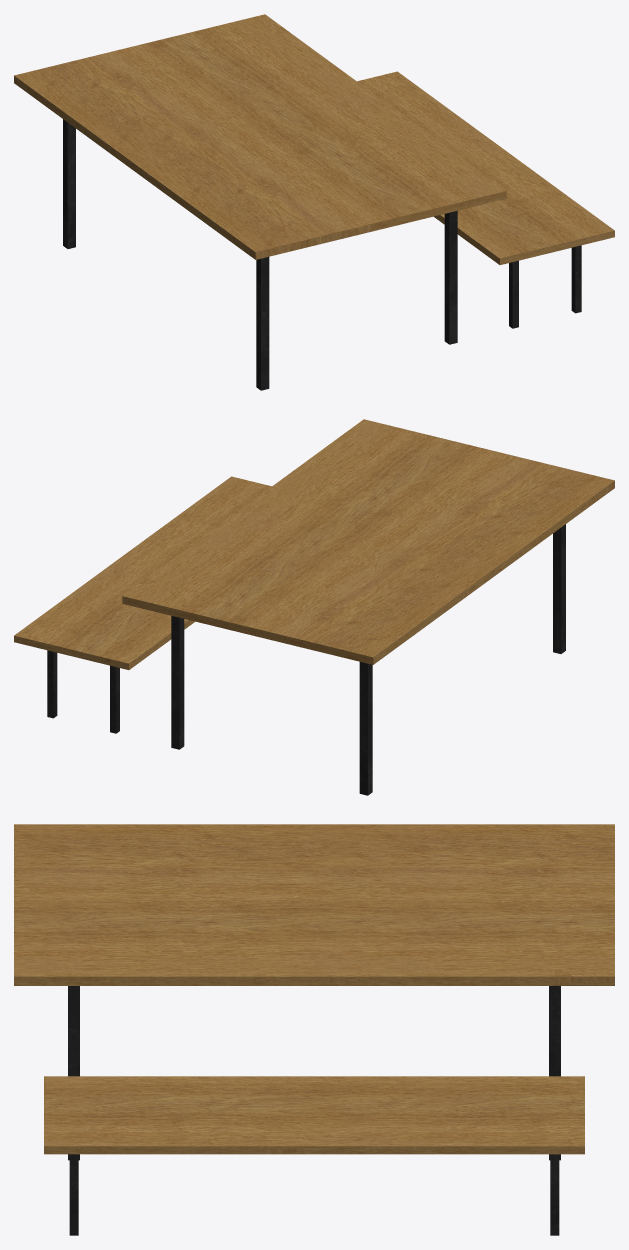
File: table_bench.obj
3 renders of one model, top to bottom at view 1: azimuth 30°, elevation 25°; view 2: azimuth 150°, elevation 25°; view 3: azimuth 270°, elevation 25°, orthographic. The views are drawn at different scales.
Visible parts, largest first — view 1: table, bench; view 2: table, bench; view 3: table, bench.
Boxes of the visible parts, box(x1,y1,x2,y2) form: table: box(14, 14, 506, 390); bench: box(357, 71, 614, 328); table: box(122, 419, 614, 795); bench: box(14, 476, 271, 733); table: box(14, 824, 614, 1160); bench: box(44, 1076, 584, 1235).
Size of the model in its own units: 1.77 by 0.735 by 2.
1 material, 1 textured.
